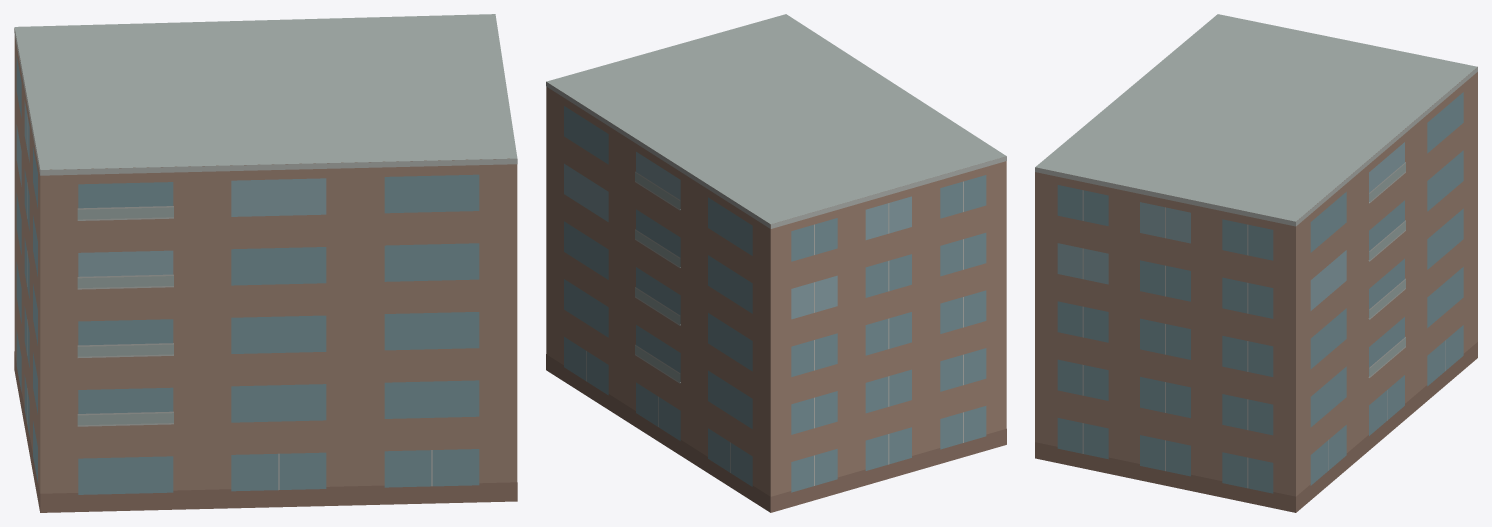
Rendered from survey-upis-32894176.glb.
3 views of the same model, side by side, from view 1: azimuth 30°, elevation 25°; view 2: azimuth 150°, elevation 25°; view 3: azimuth 270°, elevation 25° (orthographic). The views are drawn at different scales.
Visible parts, largest first — view 1: survey-upis-32894176.tmp; view 2: survey-upis-32894176.tmp; view 3: survey-upis-32894176.tmp.
Boxes of the visible parts, x1=… form: survey-upis-32894176.tmp: x1=14, y1=14, x2=517, y2=512; survey-upis-32894176.tmp: x1=546, y1=14, x2=1006, y2=512; survey-upis-32894176.tmp: x1=1035, y1=14, x2=1477, y2=512.
Size of the model in its own units: 22.5 by 14.7 by 20.27.
